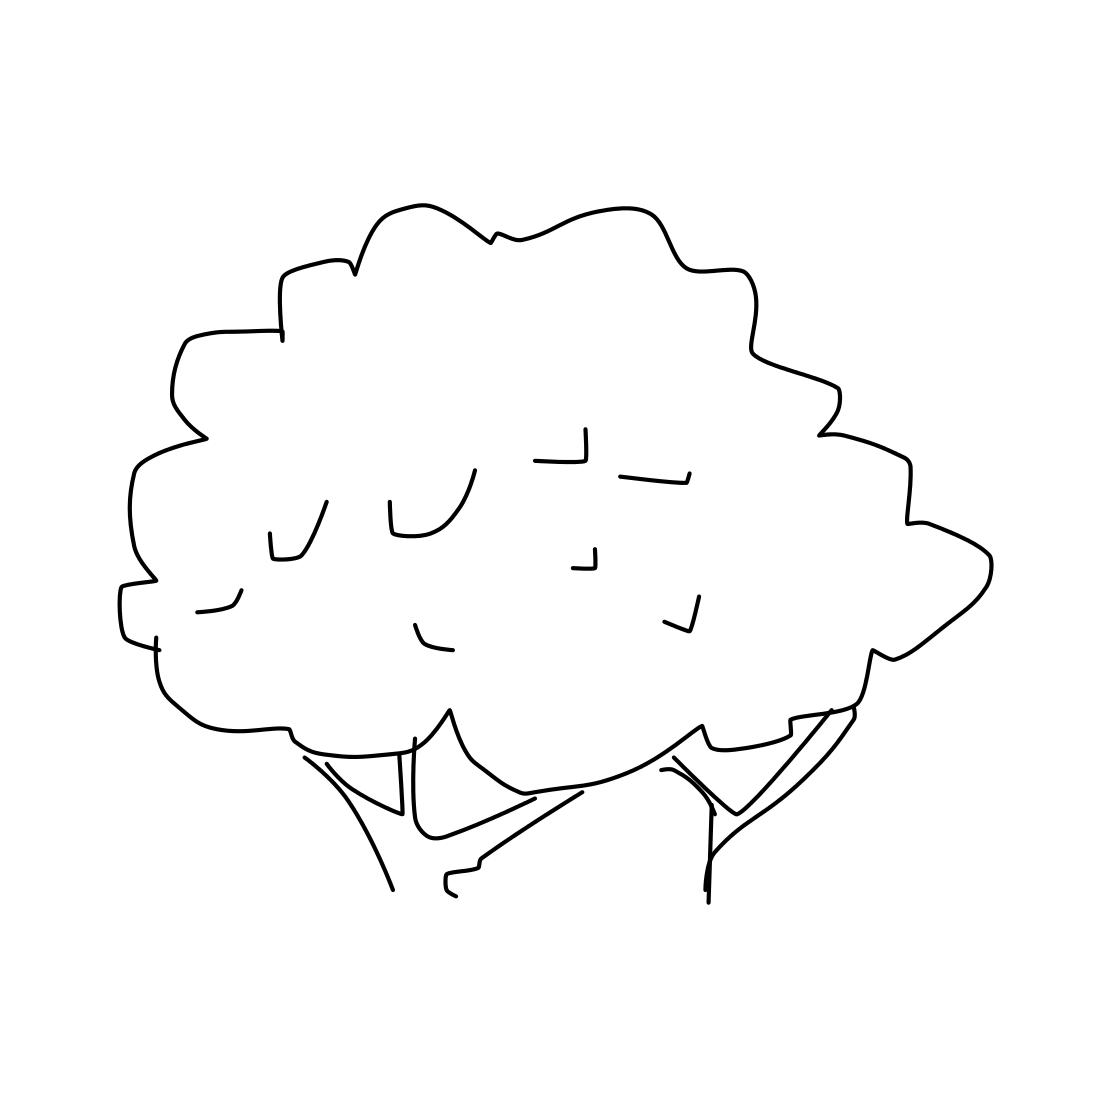Tree: (109, 163, 1008, 918)
